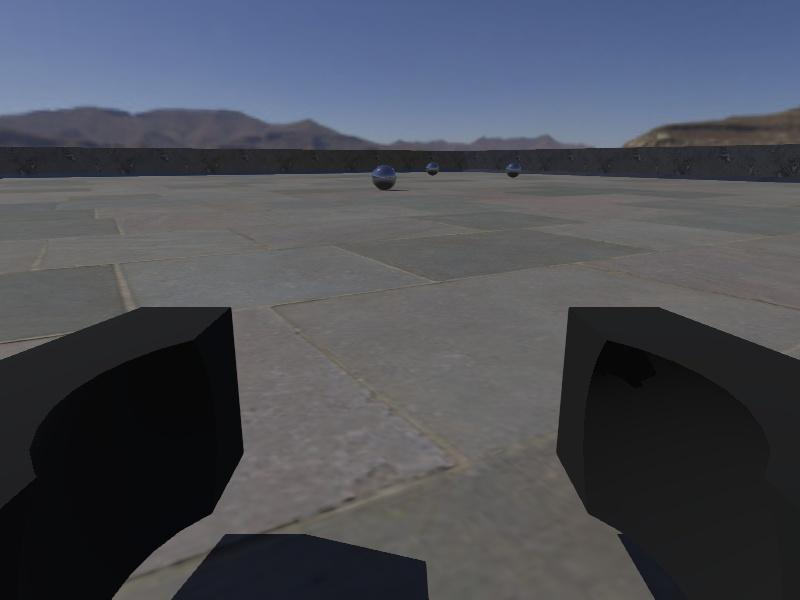steel ball: (371, 164, 398, 192), (505, 162, 522, 178), (425, 160, 440, 176)
